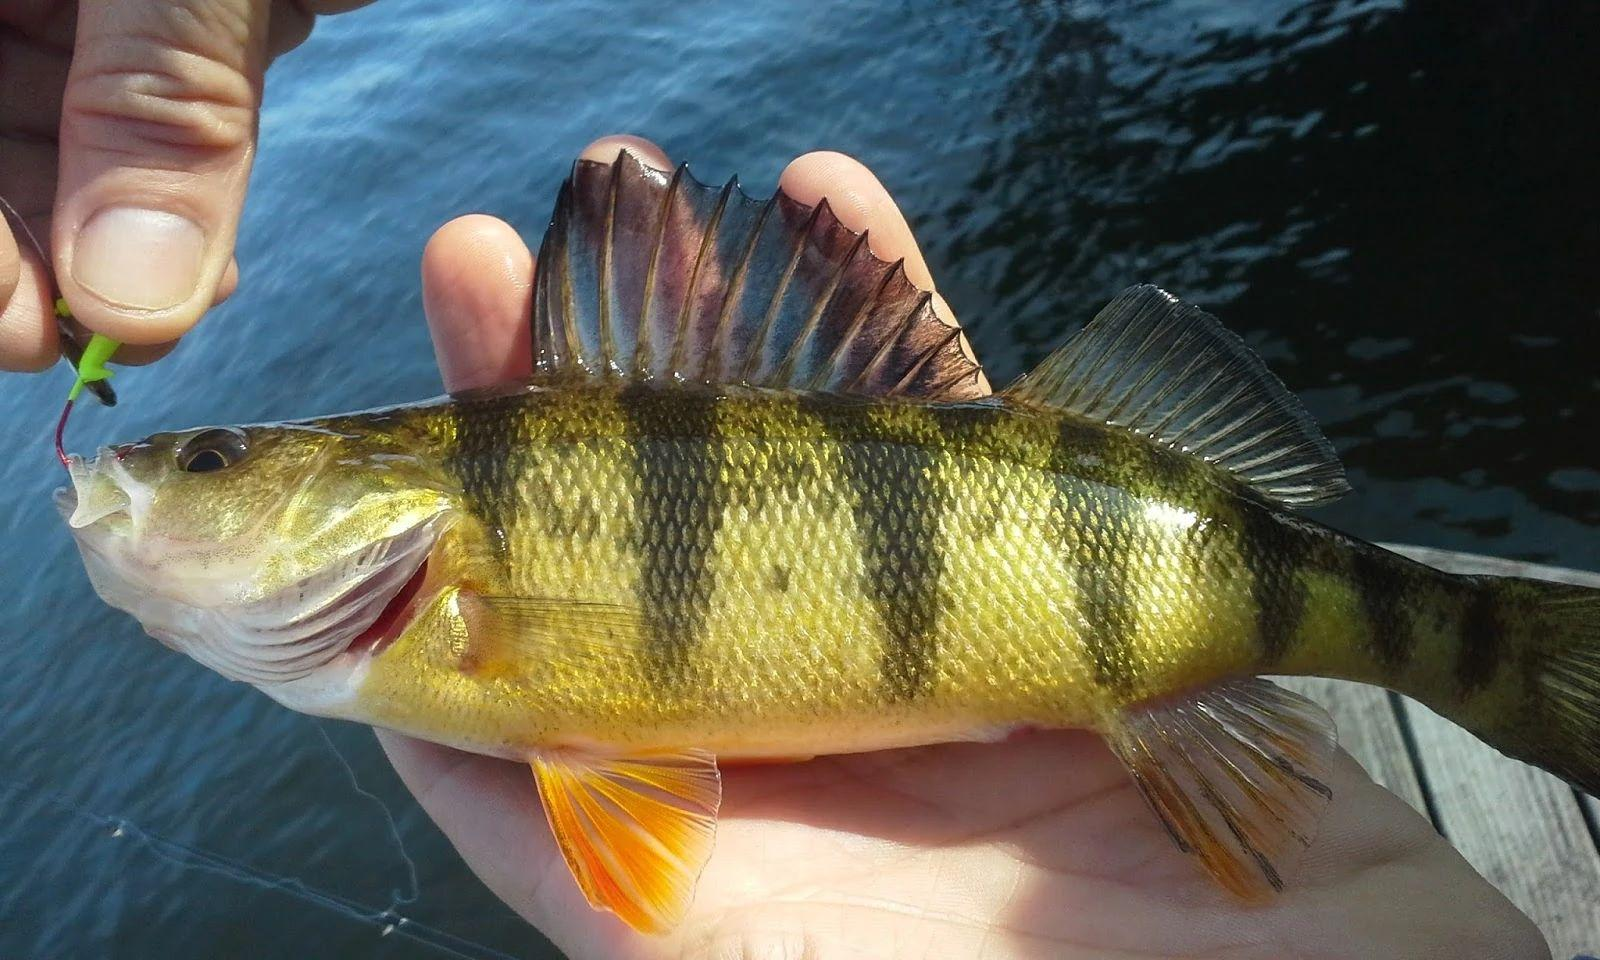Perch: (68, 142, 1600, 945)
